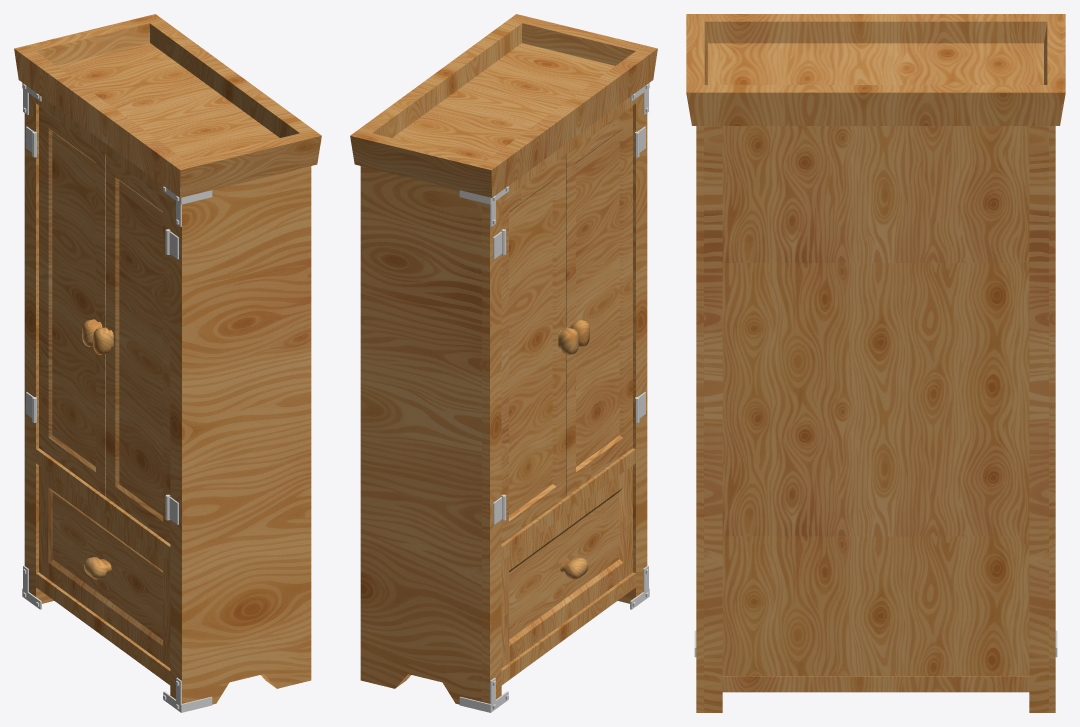
The model's file is Lair_Wardrobe.fbx.
3 renders of one model, left to right at view 1: azimuth 30°, elevation 25°; view 2: azimuth 150°, elevation 25°; view 3: azimuth 270°, elevation 25°, orthographic. The views are drawn at different scales.
Visible parts, largest first — view 1: Lair_Wardrobe; view 2: Lair_Wardrobe; view 3: Lair_Wardrobe.
Boxes of the visible parts, <box> form: Lair_Wardrobe: <box>14,14,321,712</box>; Lair_Wardrobe: <box>350,14,657,712</box>; Lair_Wardrobe: <box>686,14,1065,712</box>.
Size of the model in its own units: 0.658 by 2.28 by 1.26.
